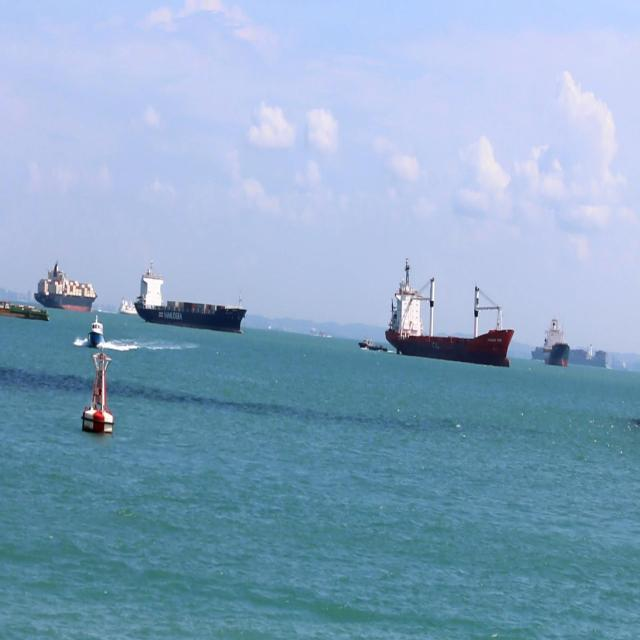buoy: (80, 349, 116, 435)
ship: (384, 256, 515, 370), (134, 262, 248, 336), (33, 258, 98, 313), (530, 344, 608, 369), (542, 314, 571, 369), (0, 299, 49, 323), (86, 315, 106, 348), (358, 334, 388, 353), (118, 298, 138, 316)
